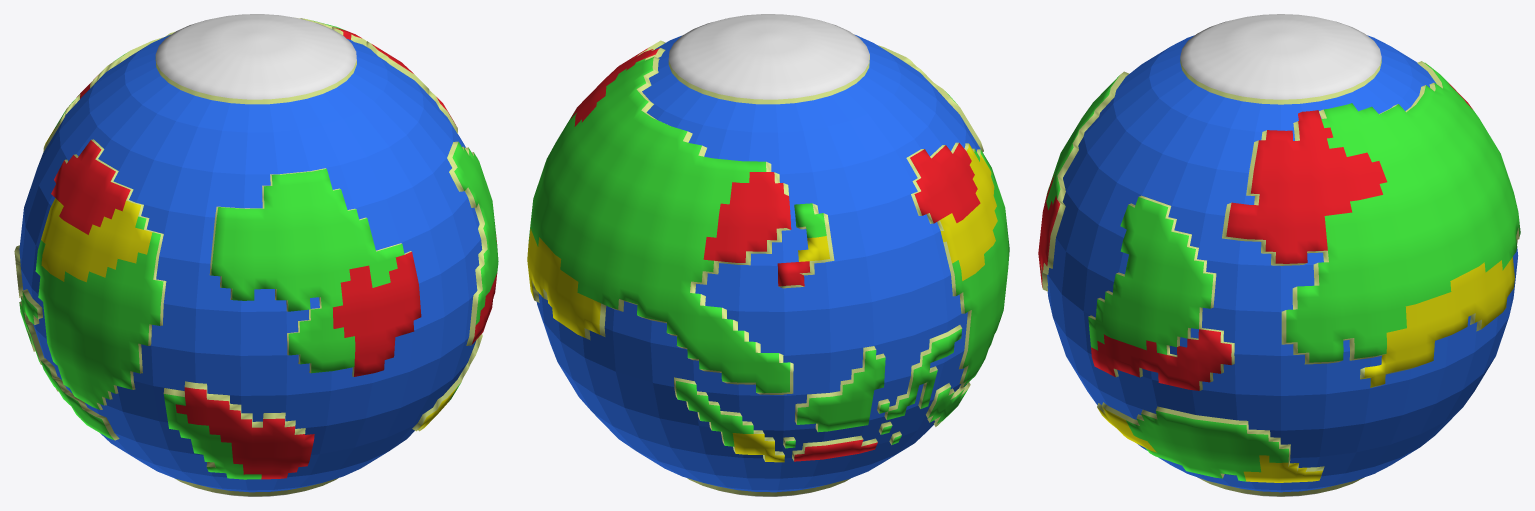
Rendered from earth(2).glb.
The picture shows the model from 3 angles, left to right: view 1: azimuth 30°, elevation 25°; view 2: azimuth 150°, elevation 25°; view 3: azimuth 270°, elevation 25°; orthographic projection.
Visible parts, largest first — view 1: Sphere.001, Sphere; view 2: Sphere, Sphere.001; view 3: Sphere, Sphere.001.
Part boxes in pixels (box(x1,y1,x2,y2)): Sphere.001: box(19, 34, 482, 492); Sphere: box(14, 14, 498, 496); Sphere: box(527, 14, 1009, 496); Sphere.001: box(536, 34, 980, 492); Sphere: box(1038, 14, 1520, 496); Sphere.001: box(1047, 35, 1518, 492).
Bounding box in the file's own units: 5.38 × 5.43 × 5.4.
